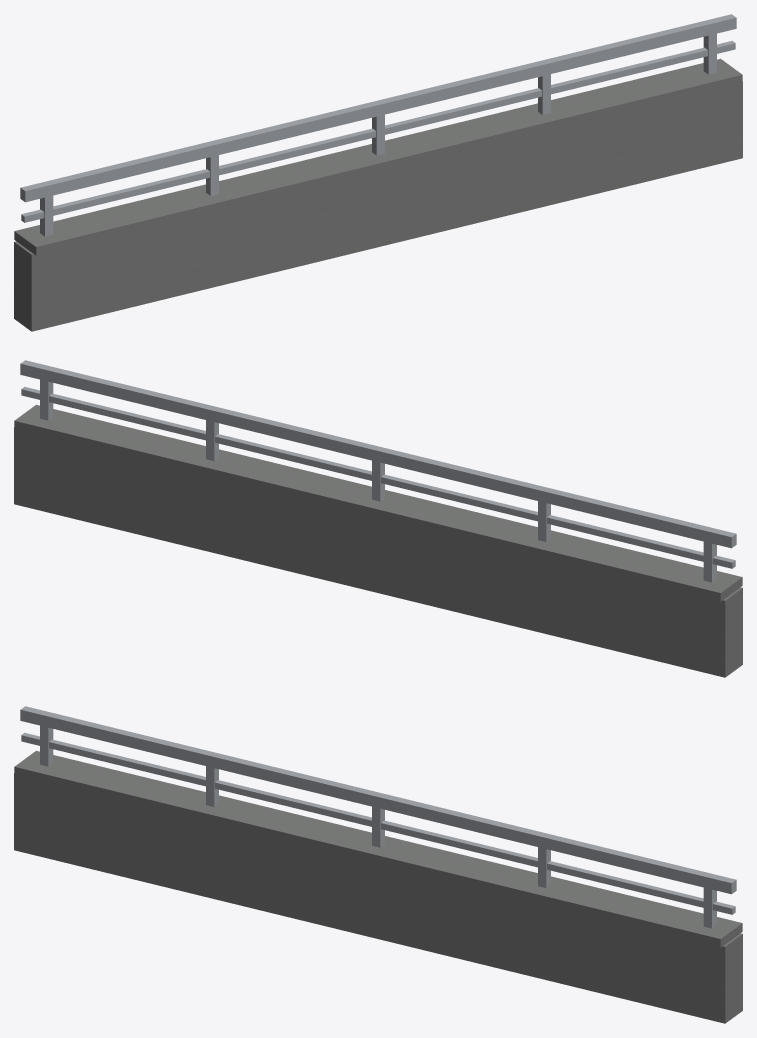
Rendered from car-park-and-road-vehicle-fleet-edge-parapet-457188ba__32547.glb.
3 views of the same model, one above another, from view 1: azimuth 30°, elevation 25°; view 2: azimuth 150°, elevation 25°; view 3: azimuth 330°, elevation 25° (orthographic).
Parts seen in each view (by area): view 1: edge-parapet; view 2: edge-parapet; view 3: edge-parapet.
Boxes of the visible parts, <box> form: edge-parapet: <box>14,14,742,331</box>; edge-parapet: <box>14,360,742,677</box>; edge-parapet: <box>14,706,742,1023</box>.
Bounding box in the file's own units: 6 × 1.09 × 0.3201.
Materials: 2 (1 with a texture image).
